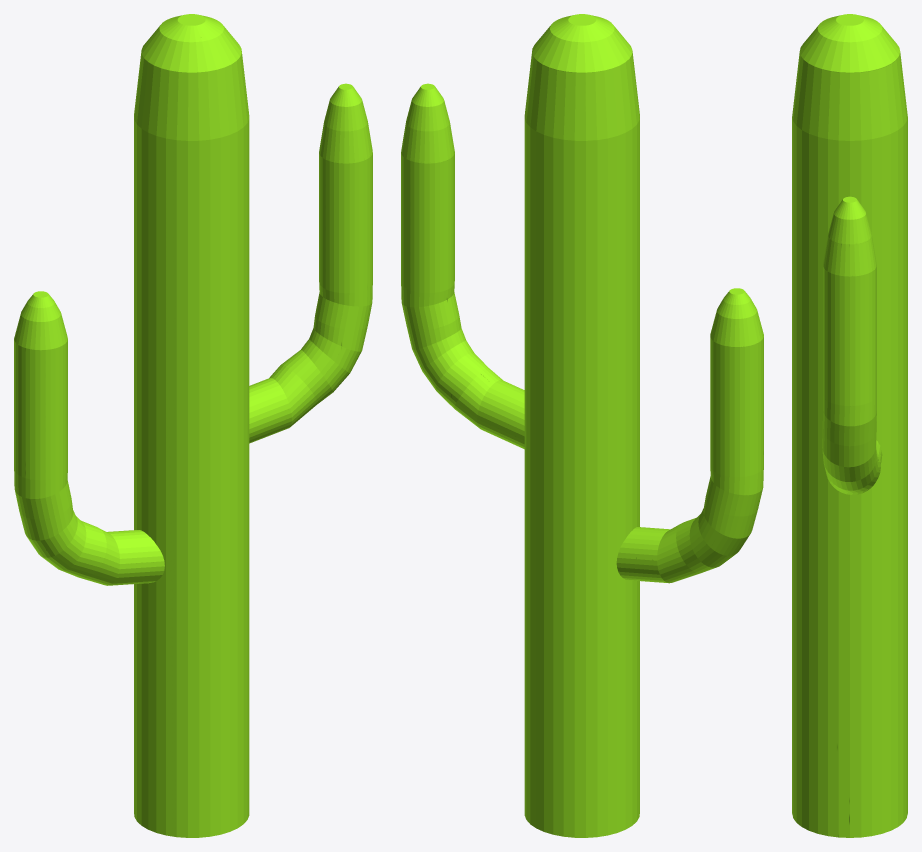
The model's file is cactus1.glb.
3 views of the same model, side by side, from view 1: azimuth 30°, elevation 25°; view 2: azimuth 150°, elevation 25°; view 3: azimuth 270°, elevation 25° (orthographic).
Parts seen in each view (by area): view 1: Cylinder; view 2: Cylinder; view 3: Cylinder.
Part boxes in pixels (x1,y1,x2,y2): Cylinder: (14,14,372,837); Cylinder: (401,14,763,837); Cylinder: (792,14,907,837).
Size of the model in its own units: 6.29 by 13.48 by 1.78.
Materials: 1 (1 with a texture image).
